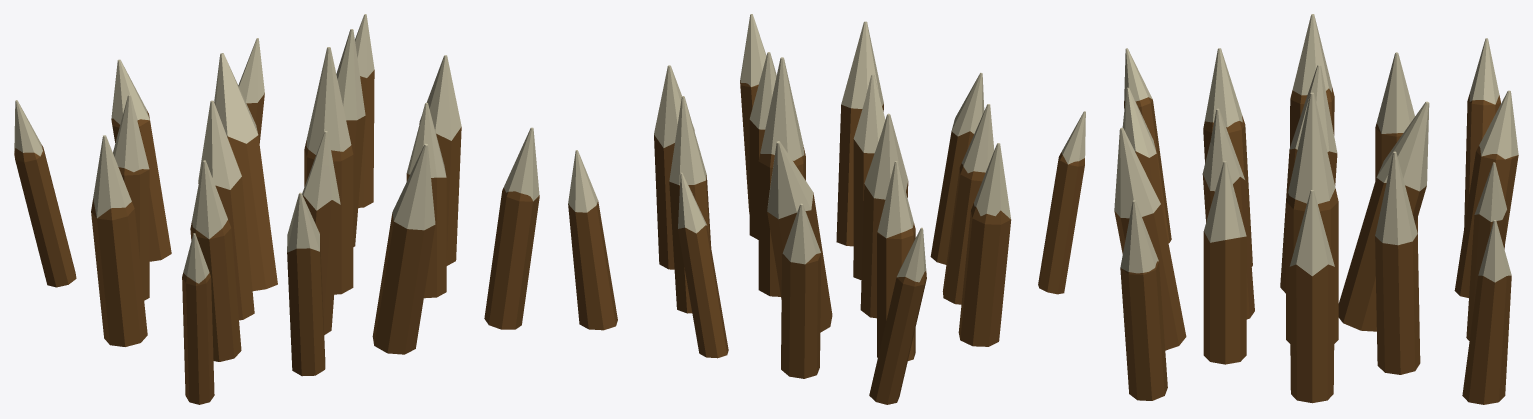
File: Trap3_Üst.fbx
The picture shows the model from 3 angles, left to right: view 1: azimuth 30°, elevation 25°; view 2: azimuth 150°, elevation 25°; view 3: azimuth 270°, elevation 25°; orthographic projection. The views are drawn at different scales.
Parts seen in each view (by area): view 1: Cylinder.251; view 2: Cylinder.251; view 3: Cylinder.251.
Boxes of the visible parts, x1,y1,x2,y2 form: Cylinder.251: (14,14,539,404); Cylinder.251: (568,14,1085,404); Cylinder.251: (1114,14,1518,404).
Bounding box in the file's own units: 0.861 × 0.5589 × 0.7922.
